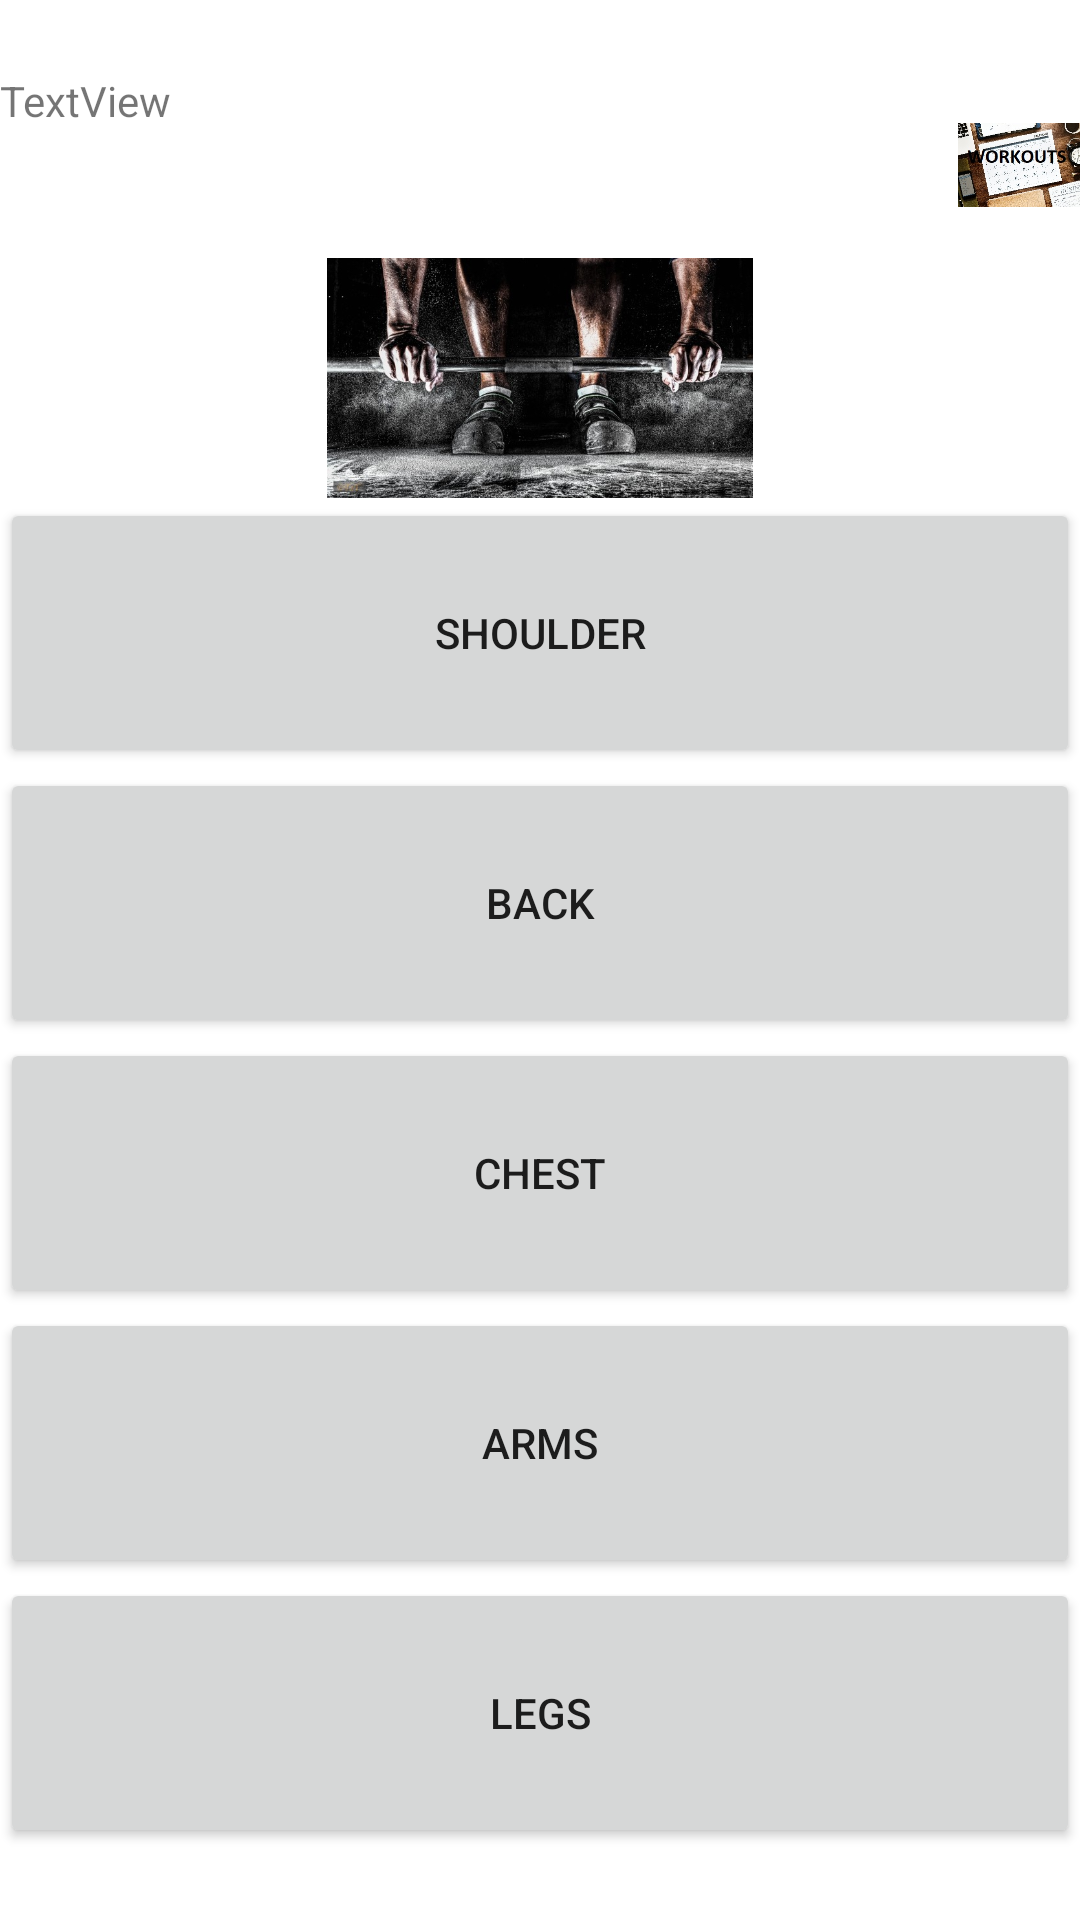

Named icons in this screenshot (1080x1920) and their bounding boxes, (x1, y1, x2, y2):
routine: (958, 123, 1080, 207)
